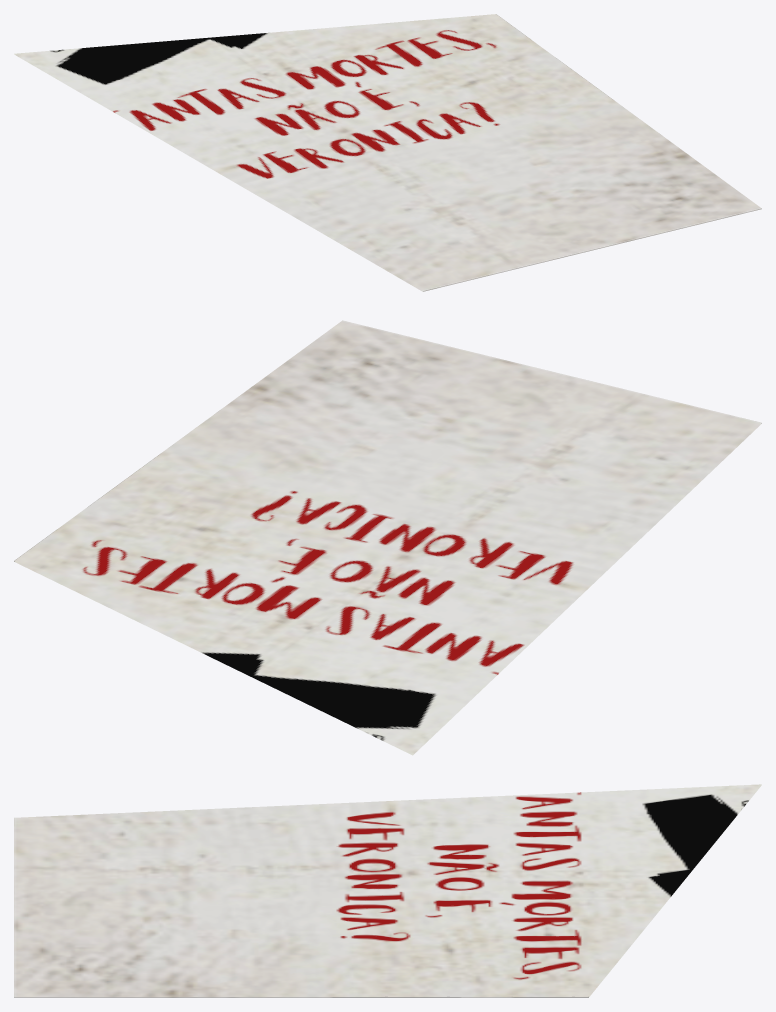
File: cellfracture.glb
The picture shows the model from 3 angles, top to bottom: view 1: azimuth 30°, elevation 25°; view 2: azimuth 150°, elevation 25°; view 3: azimuth 270°, elevation 25°; orthographic projection. The views are drawn at different scales.
Parts seen in each view (by area): view 1: Plane.009; view 2: Plane.009; view 3: Plane.009.
Boxes of the visible parts, box(x1,y1,x2,y2) form: Plane.009: box(14, 14, 761, 291); Plane.009: box(14, 320, 761, 755); Plane.009: box(14, 784, 761, 997).
Bounding box in the file's own units: 0.6209 × 0.001 × 0.9235.
1 material, 1 textured.
